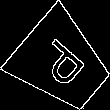P_SE: (32, 33, 93, 94)
